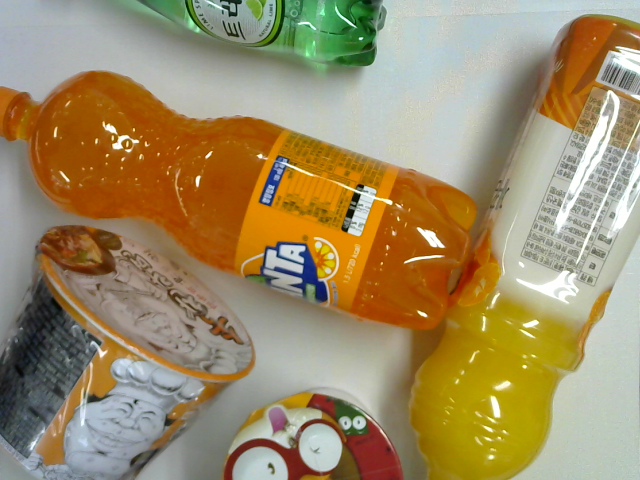Hejangchan: (1, 222, 259, 480)
Hwanta_Orange_1.5L: (2, 68, 483, 333)
Jeju_Tangerine_1.5L: (407, 11, 640, 475)
Raccoon: (220, 384, 408, 480)
Treviraim_500ml: (131, 1, 388, 71)
